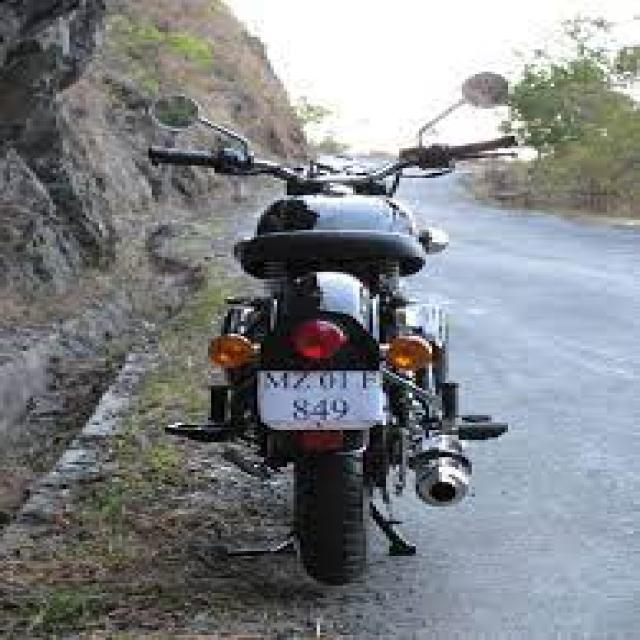license_plate: (251, 363, 386, 430)
